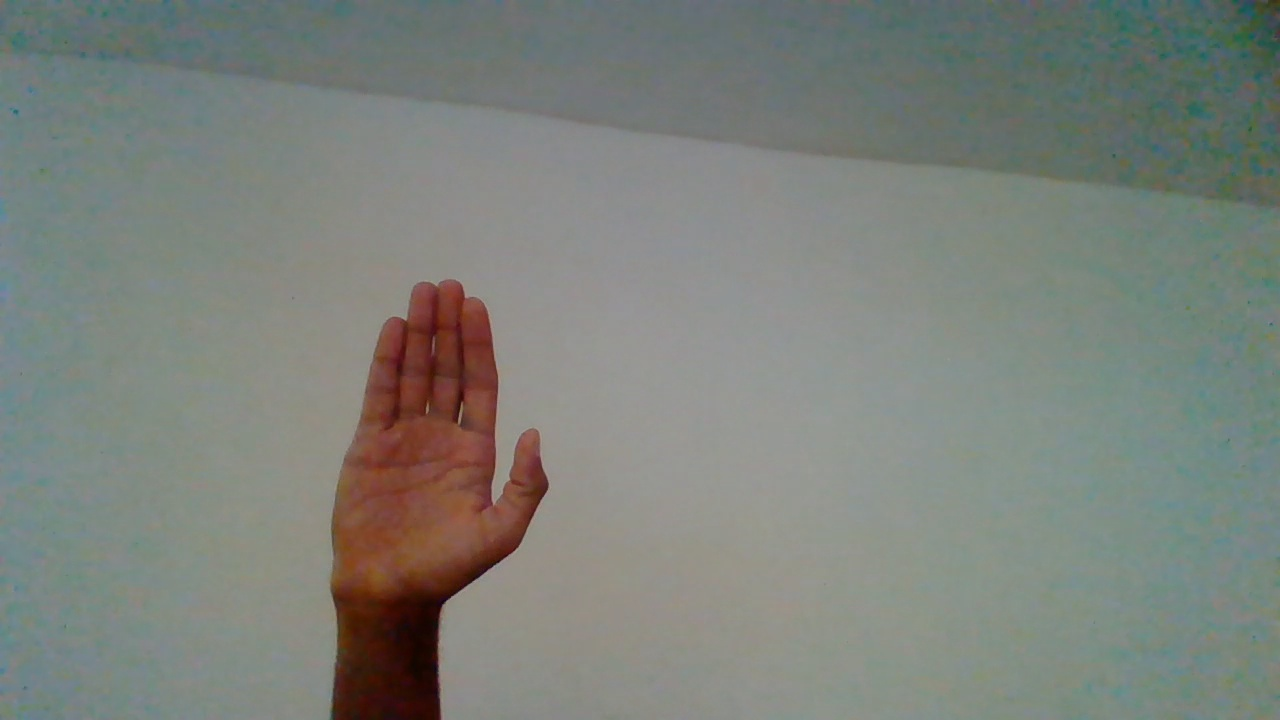ha: (324, 278, 551, 685)
